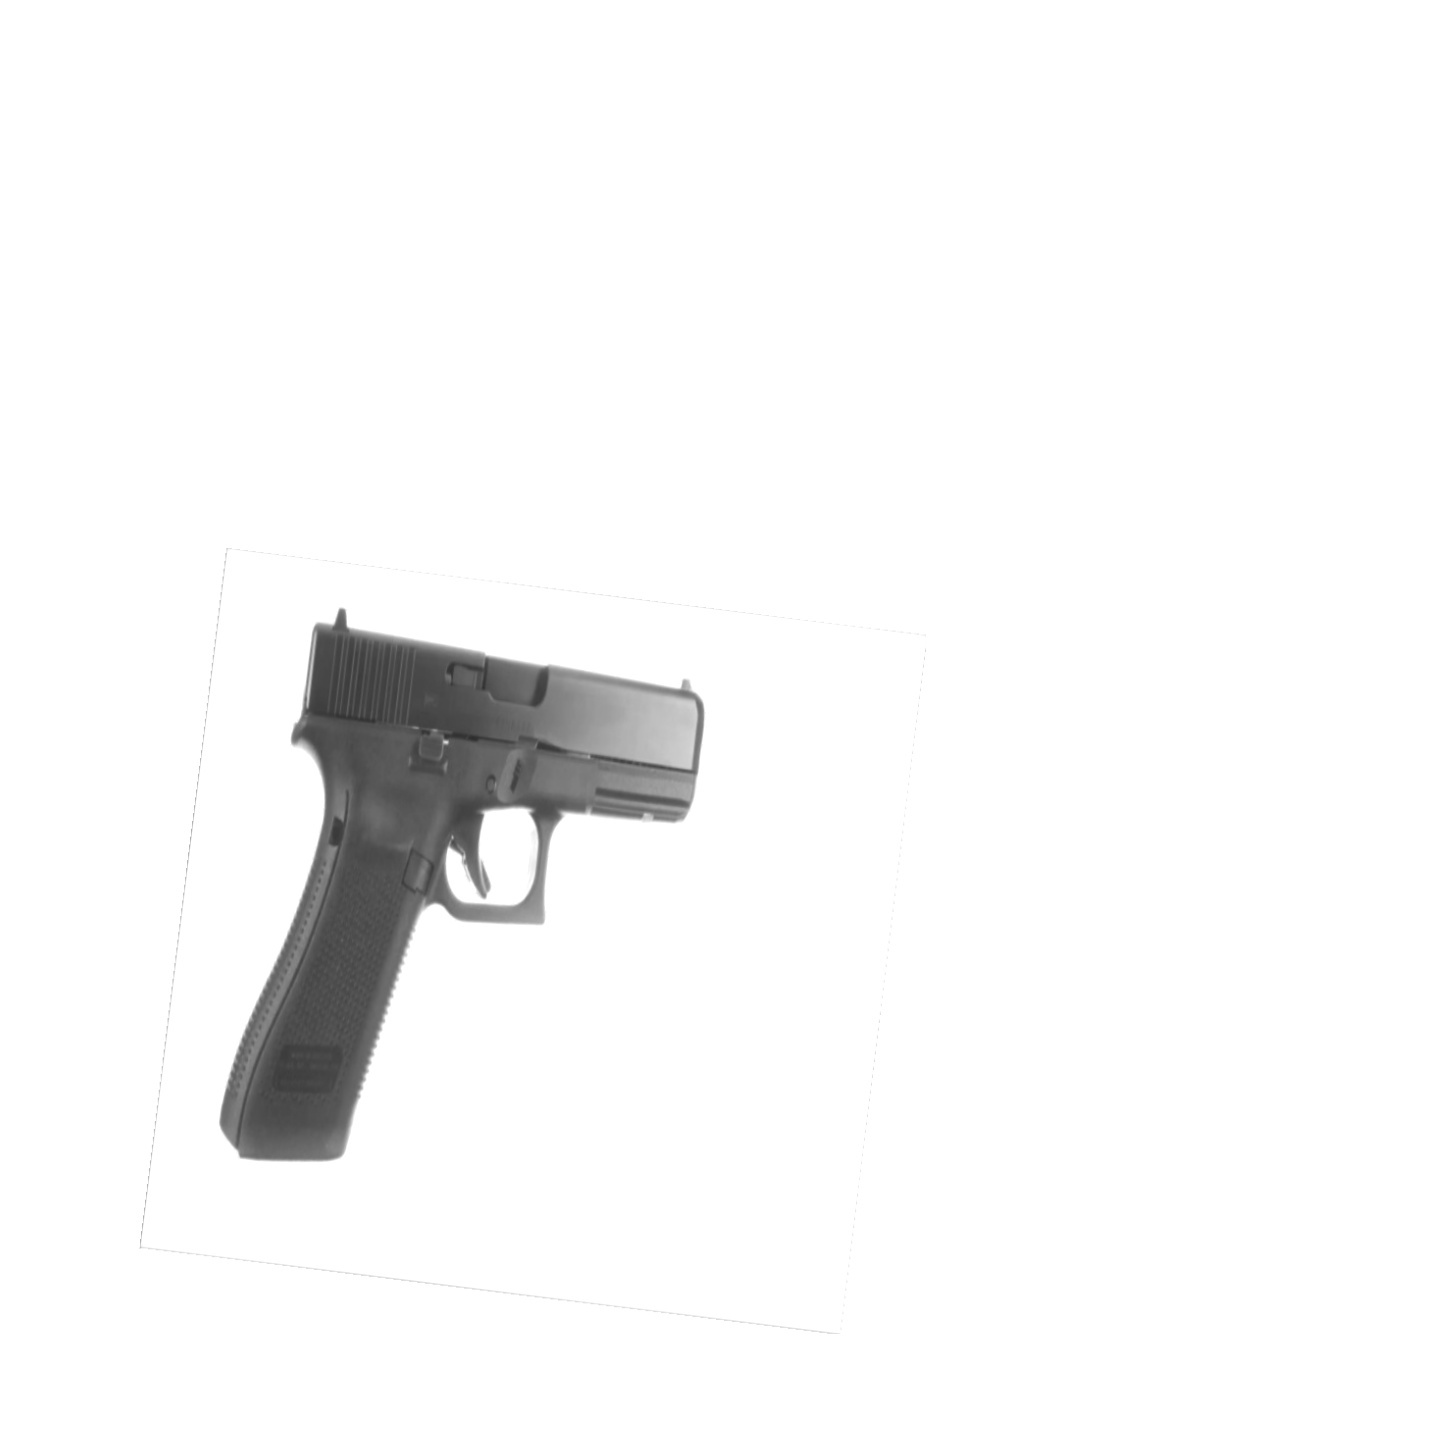gun: (215, 603, 715, 1175)
